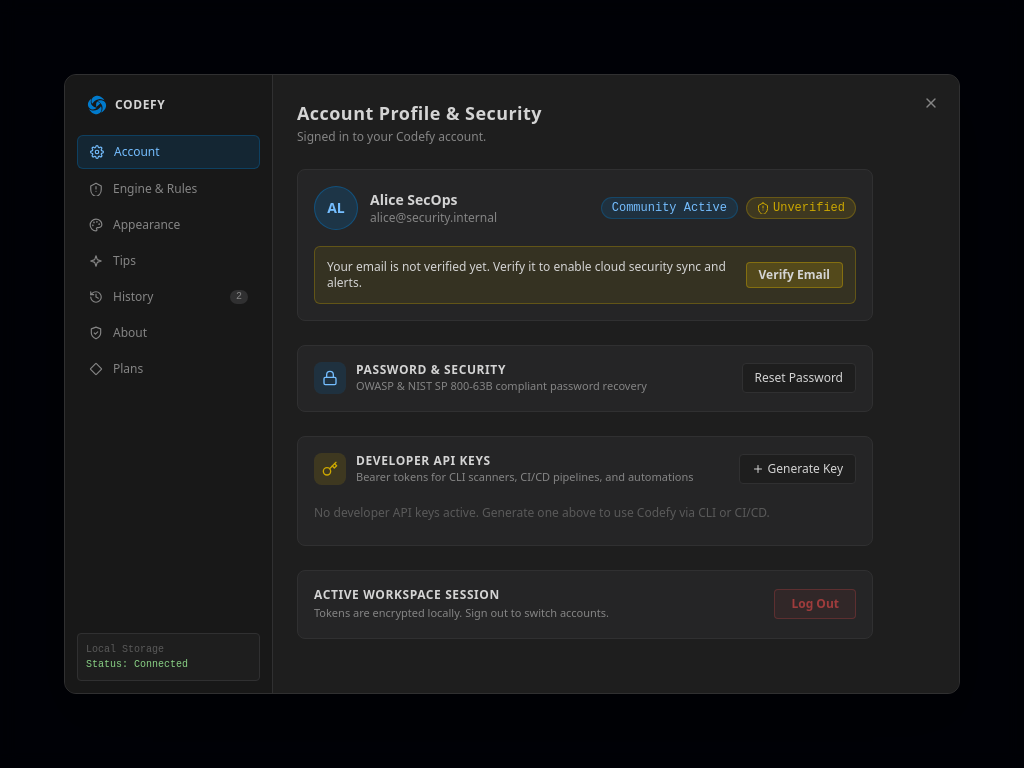
it: SettingsHistoryModal › switches to Engine & Rules tab and displays rule toggles
Click the button "Engine & Rules" at (168, 189), box [77,173,260,205]
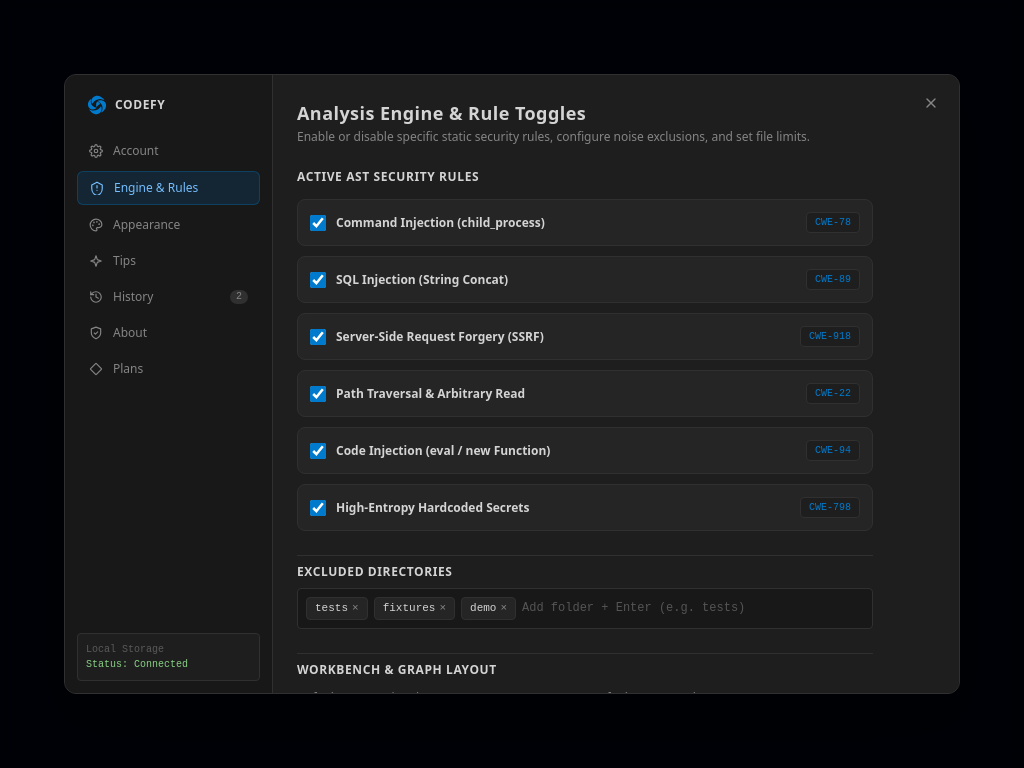
Check: the heading "Analysis Engine & Rule Toggles" is shown, box [297,101,586,125]
Check: the text "Command Injection (child_process)" is shown, box [336,214,545,230]
Check: the text "SQL Injection (String Concat)" is shown, box [336,272,508,288]
